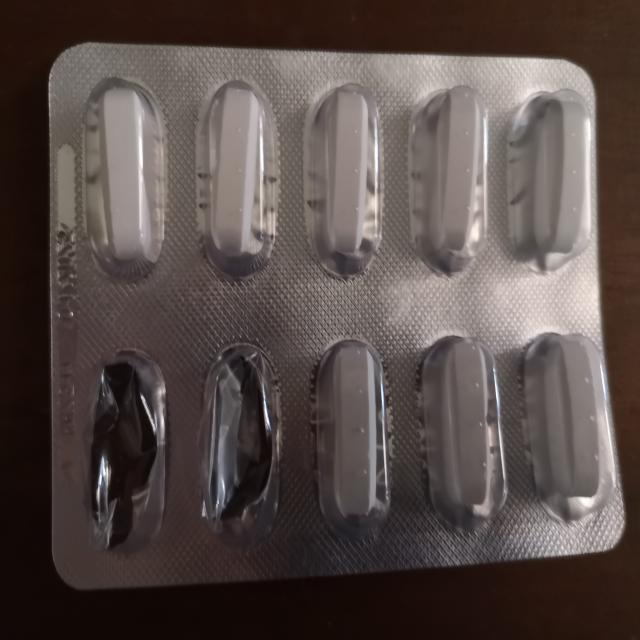Empty: (84, 345, 170, 559), (197, 337, 288, 534)
Pill: (77, 70, 172, 284), (518, 330, 620, 527), (416, 328, 509, 532), (308, 330, 400, 536), (300, 78, 389, 284), (194, 74, 281, 278), (406, 80, 493, 280), (510, 83, 597, 274)
